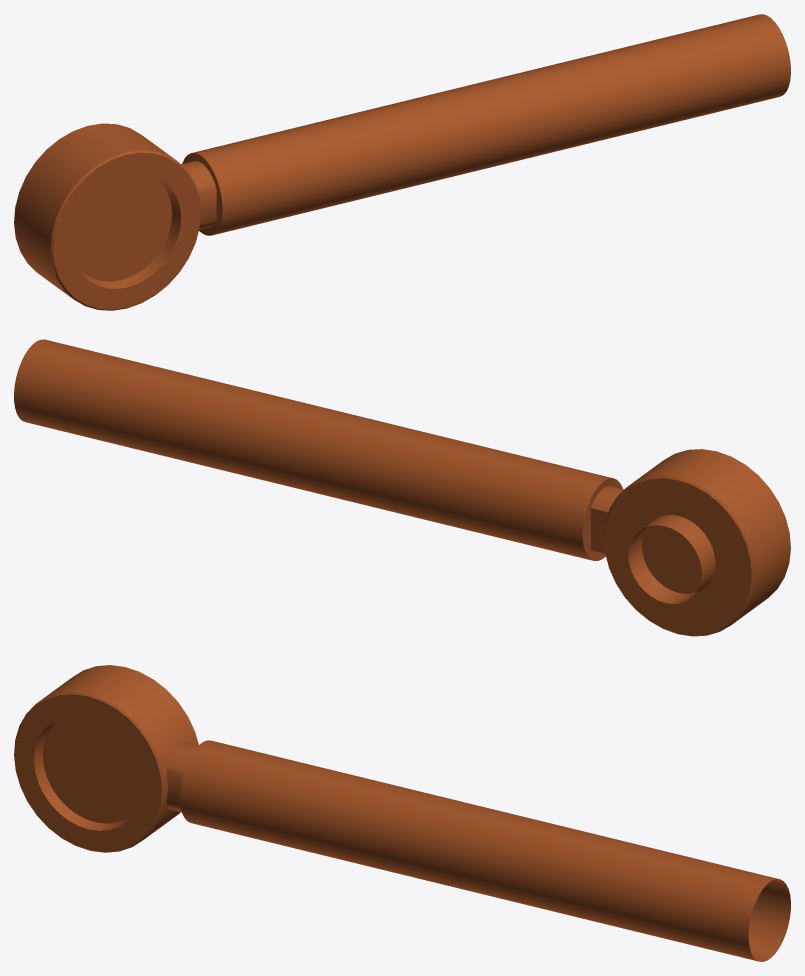
File: RobotArm_HidraulicAxis.glb
3 renders of one model, top to bottom at view 1: azimuth 30°, elevation 25°; view 2: azimuth 150°, elevation 25°; view 3: azimuth 330°, elevation 25°, orthographic.
Parts seen in each view (by area): view 1: RobotArmHydraulicAxis; view 2: RobotArmHydraulicAxis; view 3: RobotArmHydraulicAxis.
Boxes of the visible parts, left/top/right/bottom form: RobotArmHydraulicAxis: left=14, top=14, right=790, bottom=310; RobotArmHydraulicAxis: left=14, top=339, right=790, bottom=636; RobotArmHydraulicAxis: left=14, top=665, right=790, bottom=961.
Bounding box in the file's own units: 0.7296 × 0.148 × 0.0928.
